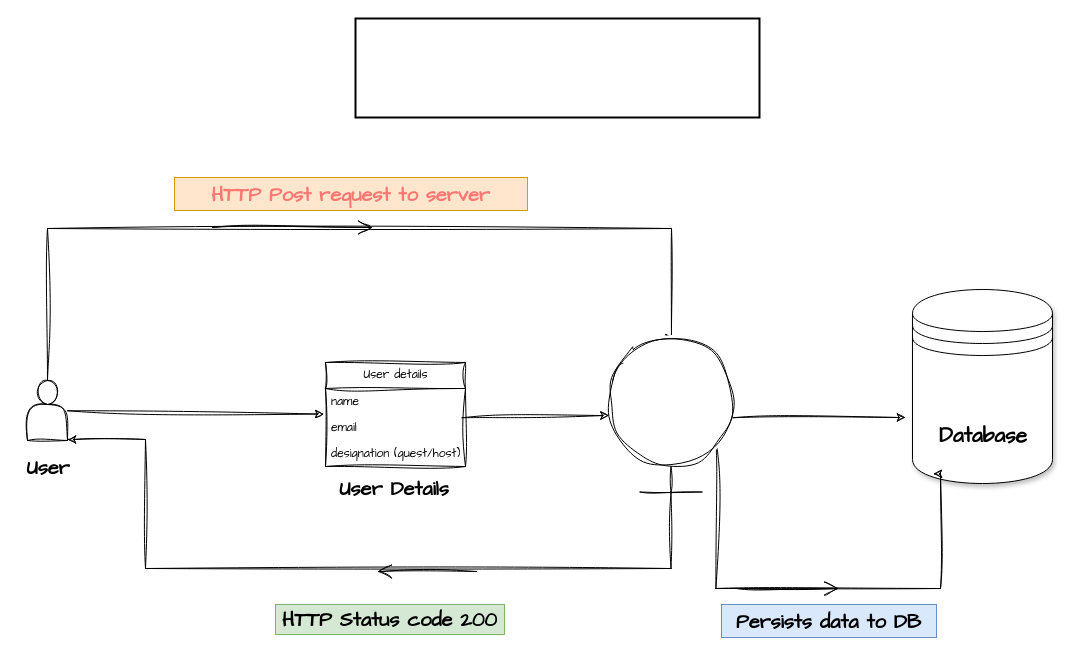
Some shapes in this 1076 by 655 pixel diagram are drawn without their labels. The centre of each missing label's shape, as x and y in pixels:
Server: point 670,414
User Registration: point 557,67
